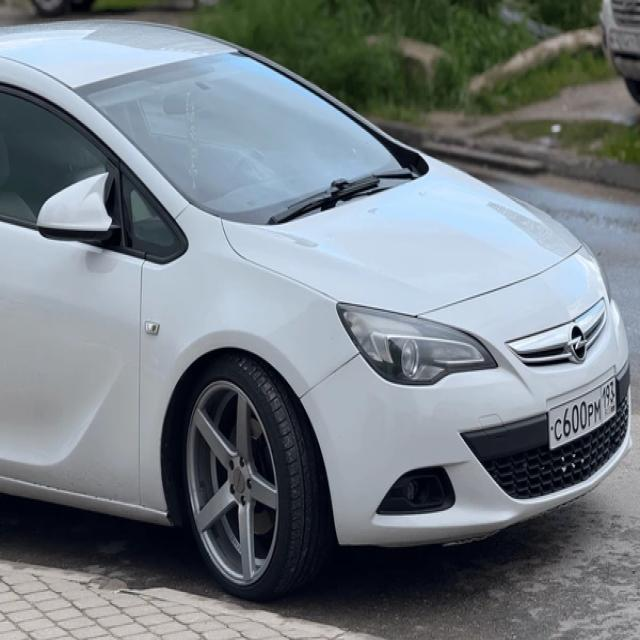opel: (567, 322, 589, 362)
